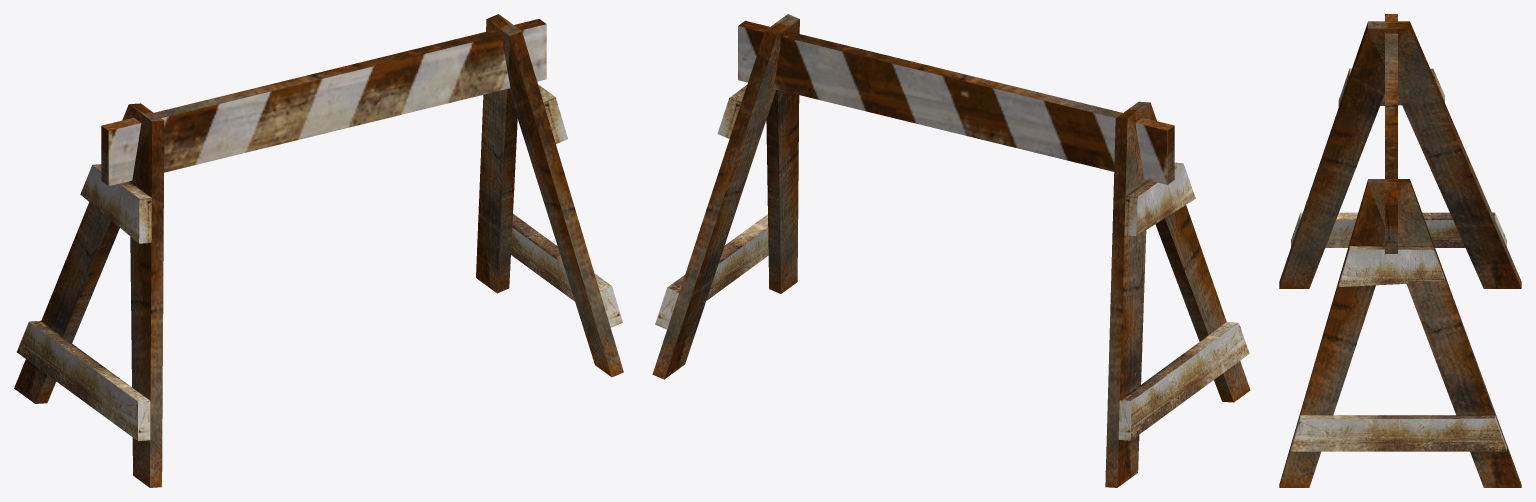
Rendered from Wood_Barrier.fbx.
3 views of the same model, side by side, from view 1: azimuth 30°, elevation 25°; view 2: azimuth 150°, elevation 25°; view 3: azimuth 270°, elevation 25° (orthographic). The views are drawn at different scales.
Parts seen in each view (by area): view 1: wood_barrier; view 2: wood_barrier; view 3: wood_barrier.
Part boxes in pixels (box(x1,y1,x2,y2)): wood_barrier: box(14, 14, 623, 487); wood_barrier: box(652, 14, 1250, 487); wood_barrier: box(1279, 14, 1521, 487).
Size of the model in its own units: 12.38 by 7.79 by 6.01.
